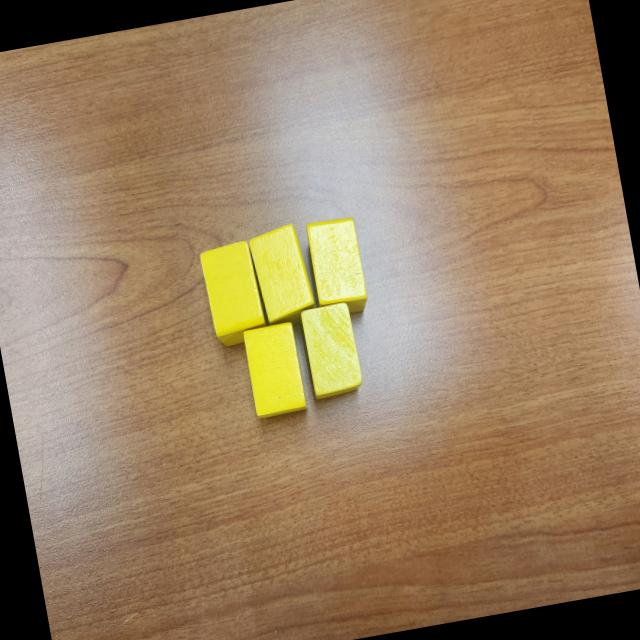yellow: (245, 222, 318, 330), (198, 238, 268, 348), (303, 214, 371, 319), (298, 299, 364, 399), (241, 320, 307, 418)
